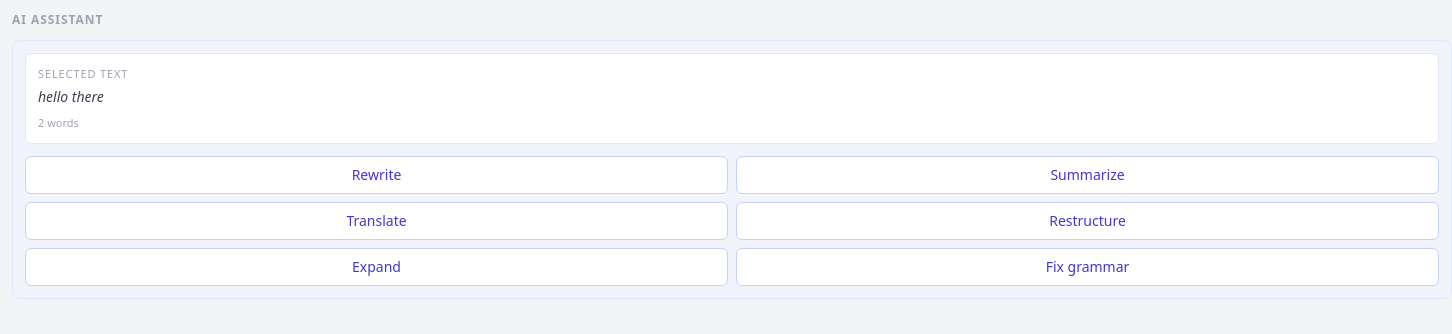
Test case: AIPanel › fetches a suggestion and renders the compare view
Click the button "Rewrite" at (376, 175), box [25,156,728,194]
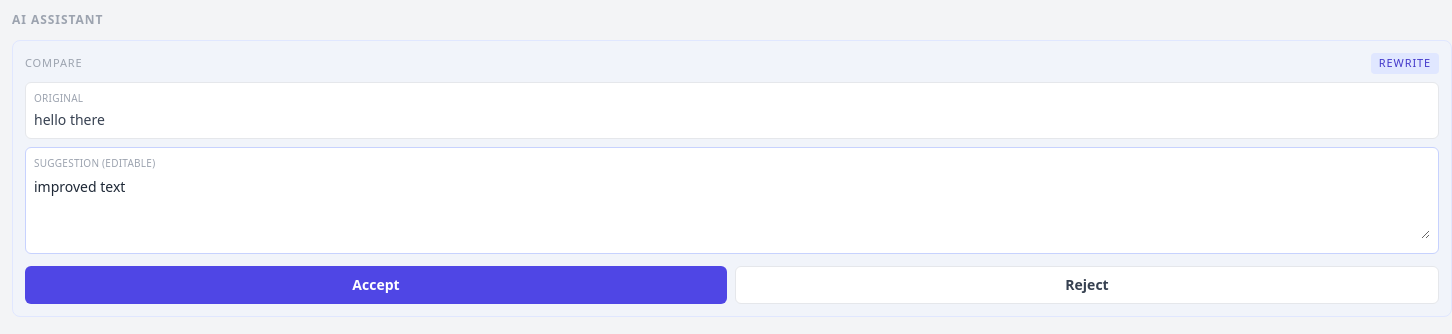
Expected: the text "hello there" is shown, [34,110,105,128]
Expected: the text box showing "improved text" is shown, [34,174,1430,238]
